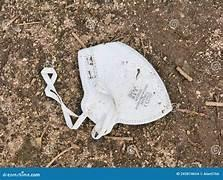Mask: (41, 42, 171, 138)
